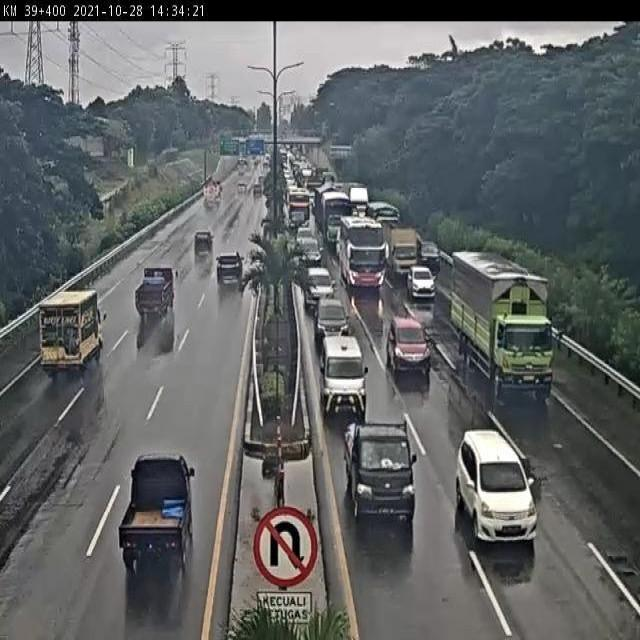big bus: (340, 214, 387, 286)
big truck: (450, 248, 557, 400), (384, 224, 420, 281), (323, 193, 352, 244)
car: (450, 424, 540, 545), (116, 448, 196, 560), (340, 418, 416, 522), (320, 332, 368, 419), (386, 314, 432, 374), (315, 292, 350, 345), (302, 263, 338, 312), (405, 261, 436, 304), (298, 239, 324, 269), (417, 239, 438, 272), (295, 224, 314, 251)
small truck: (41, 290, 104, 374), (135, 265, 181, 320)
